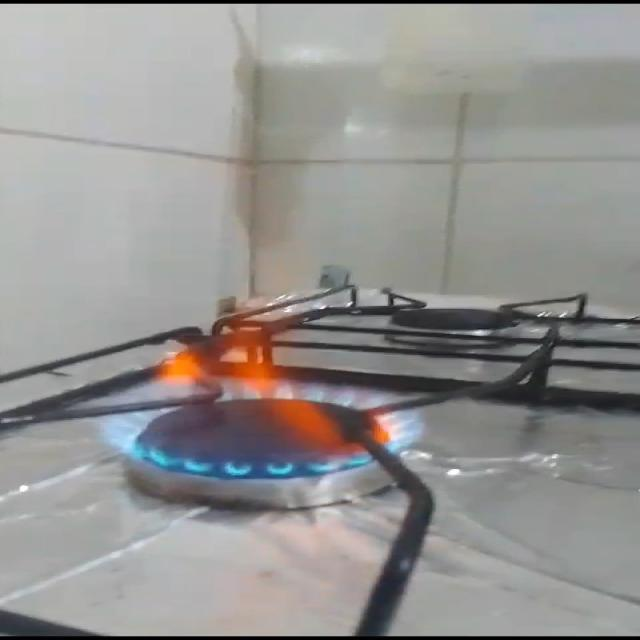fogo-ypXI: (87, 291, 436, 474)
